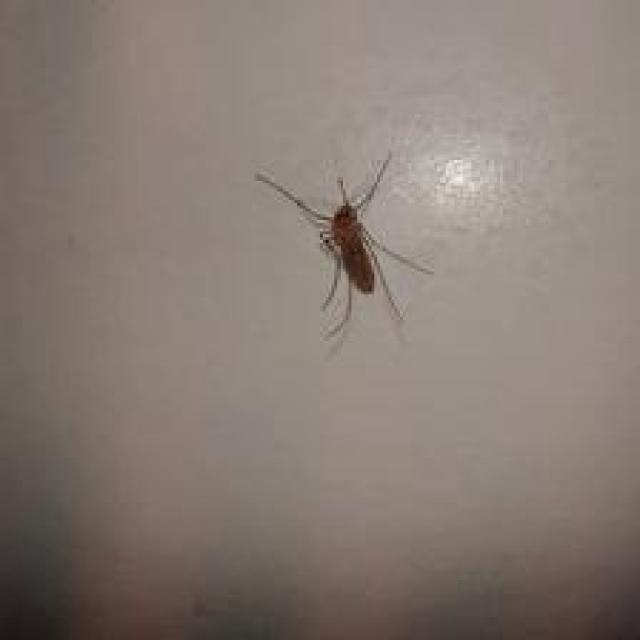Culex: (253, 148, 436, 346)
